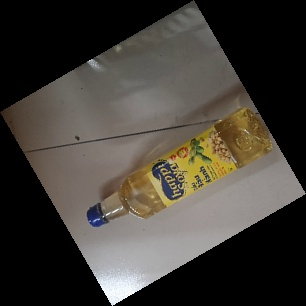Happy Soya: (83, 106, 275, 228)
